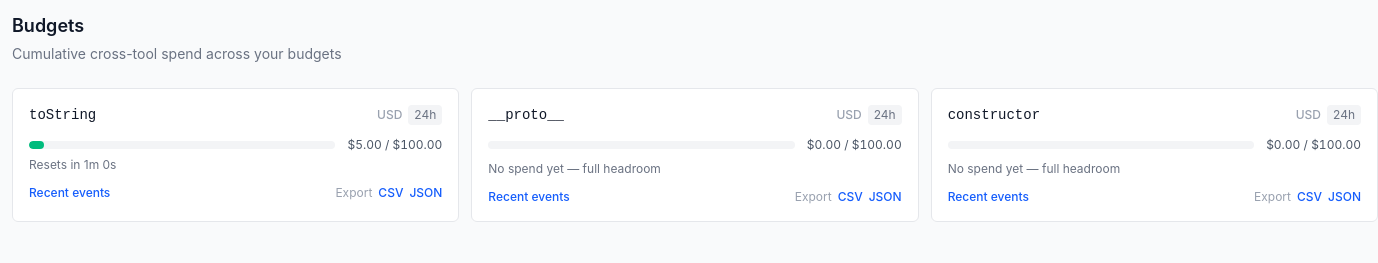
Test case: BudgetsPage › renders and expands budgets named after Object prototype keys
This screenshot has width=1378, height=263.
expect the text "toString" is shown: met, box [29,105,96,125]
expect the text "__proto__" is shown: met, box [488,105,564,125]
Note: The toggle must treat these as collapsed (no own entry) and expand.
Click the button "Recent events" below "Resets in 1m 0s" at (70, 193), box [29,185,110,201]
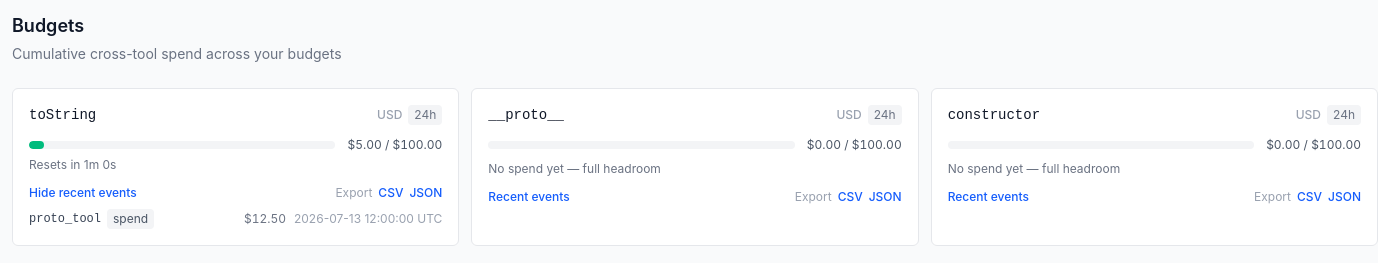
expect the text "proto_tool" is shown: met, box [29,211,101,227]
